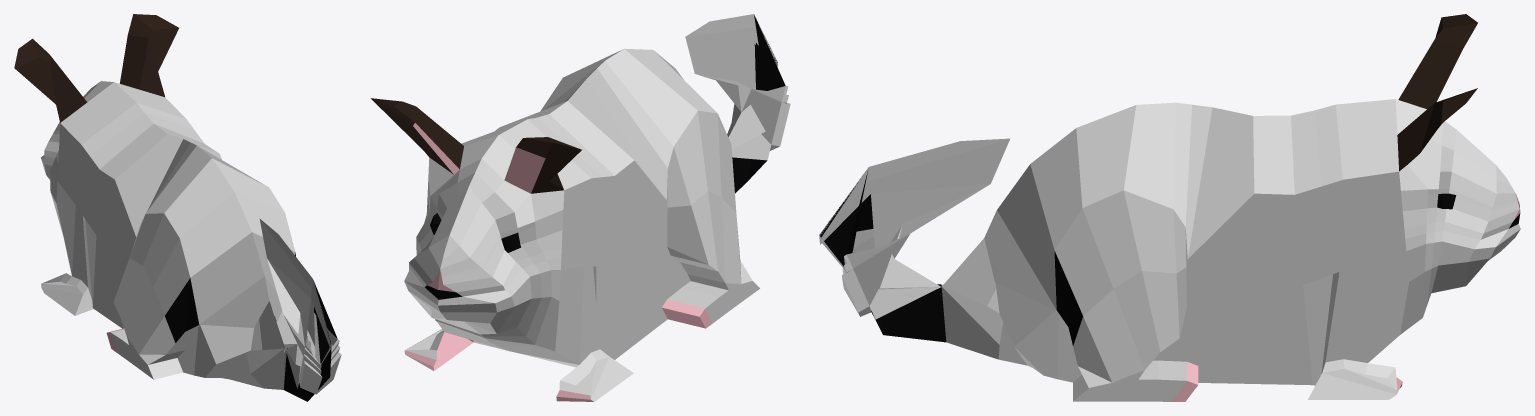
The model's file is mikaModel4.fbx.
The picture shows the model from 3 angles, left to right: view 1: azimuth 30°, elevation 25°; view 2: azimuth 150°, elevation 25°; view 3: azimuth 270°, elevation 25°; orthographic projection. The views are drawn at different scales.
Parts seen in each view (by area): view 1: Cube; view 2: Cube; view 3: Cube.
Part boxes in pixels (<box>): Cube: <box>14,14,341,401</box>; Cube: <box>370,14,790,401</box>; Cube: <box>819,14,1520,401</box>.
Bounding box in the file's own units: 99.6 × 132 × 277.
